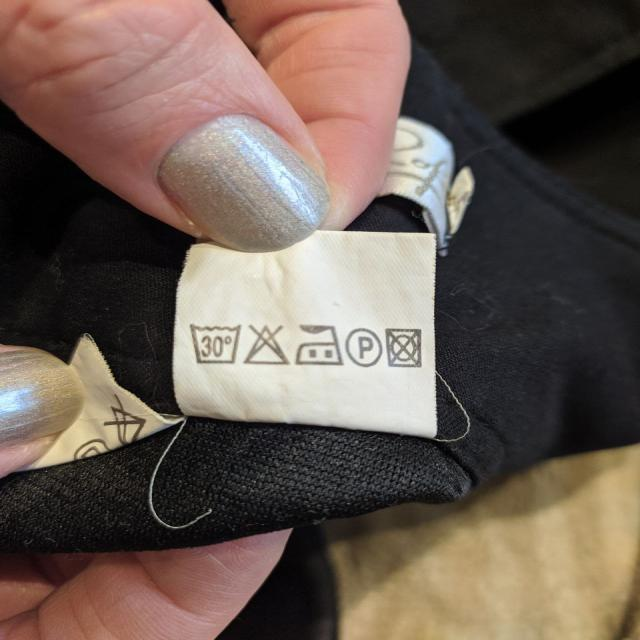30C: (190, 321, 244, 369)
DN_bleach: (242, 320, 293, 370)
DN_tumble_dry: (386, 323, 425, 369)
dry_clean_any_solvent_except_trichloroethylene: (344, 323, 384, 368)
iron_medium: (294, 319, 346, 370)
